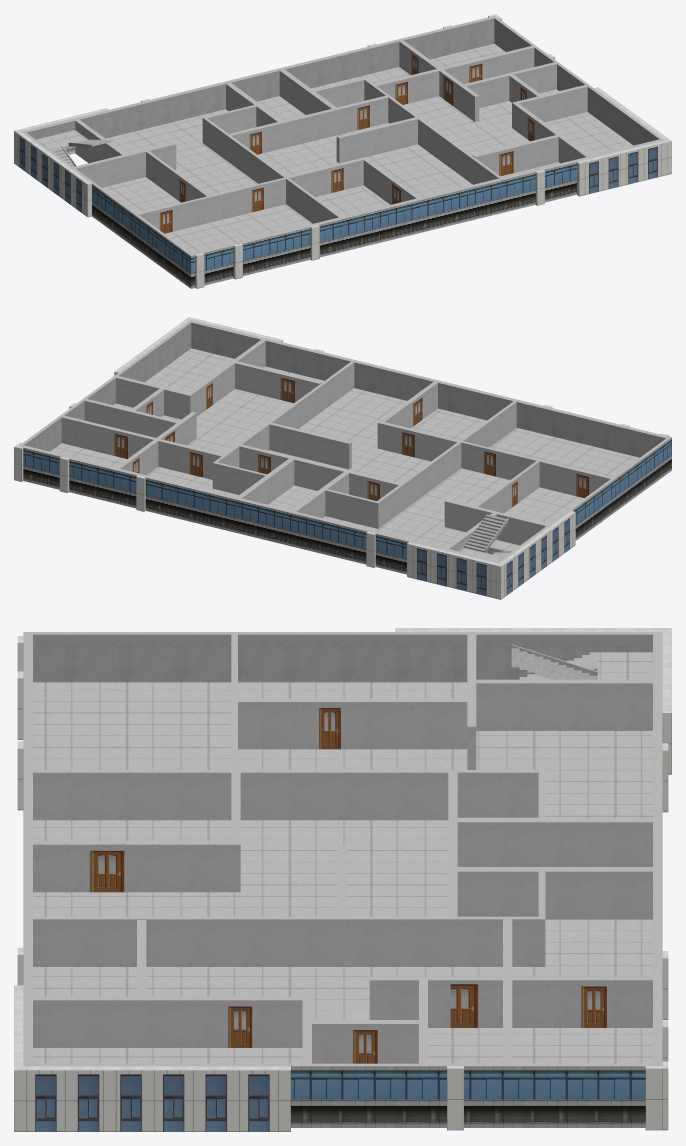
3 renders of one model, top to bottom at view 1: azimuth 30°, elevation 25°; view 2: azimuth 150°, elevation 25°; view 3: azimuth 270°, elevation 25°, orthographic. The views are drawn at different scales.
Parts seen in each view (by area): view 1: zj1.001; view 2: zj1.001; view 3: zj1.001.
Boxes of the visible parts, x1,y1,x2,y2 form: zj1.001: (14,14,671,288); zj1.001: (14,317,671,599); zj1.001: (14,628,671,1131).
Bounding box in the file's own units: 56.65 × 4.62 × 35.63.
Materials: 12 (10 with a texture image).
